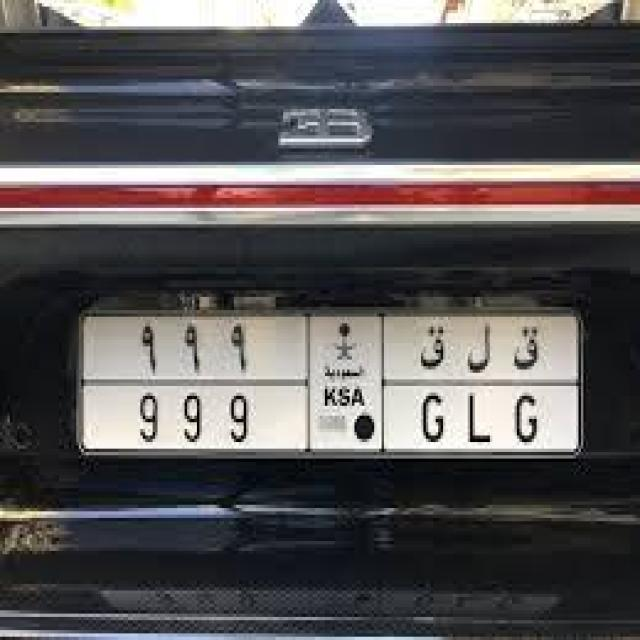license_plate: (77, 293, 586, 450)
